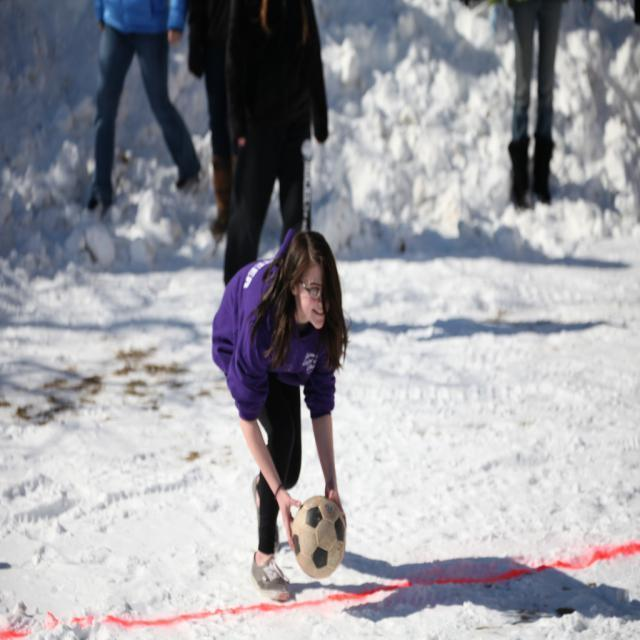football: (267, 486, 367, 578)
